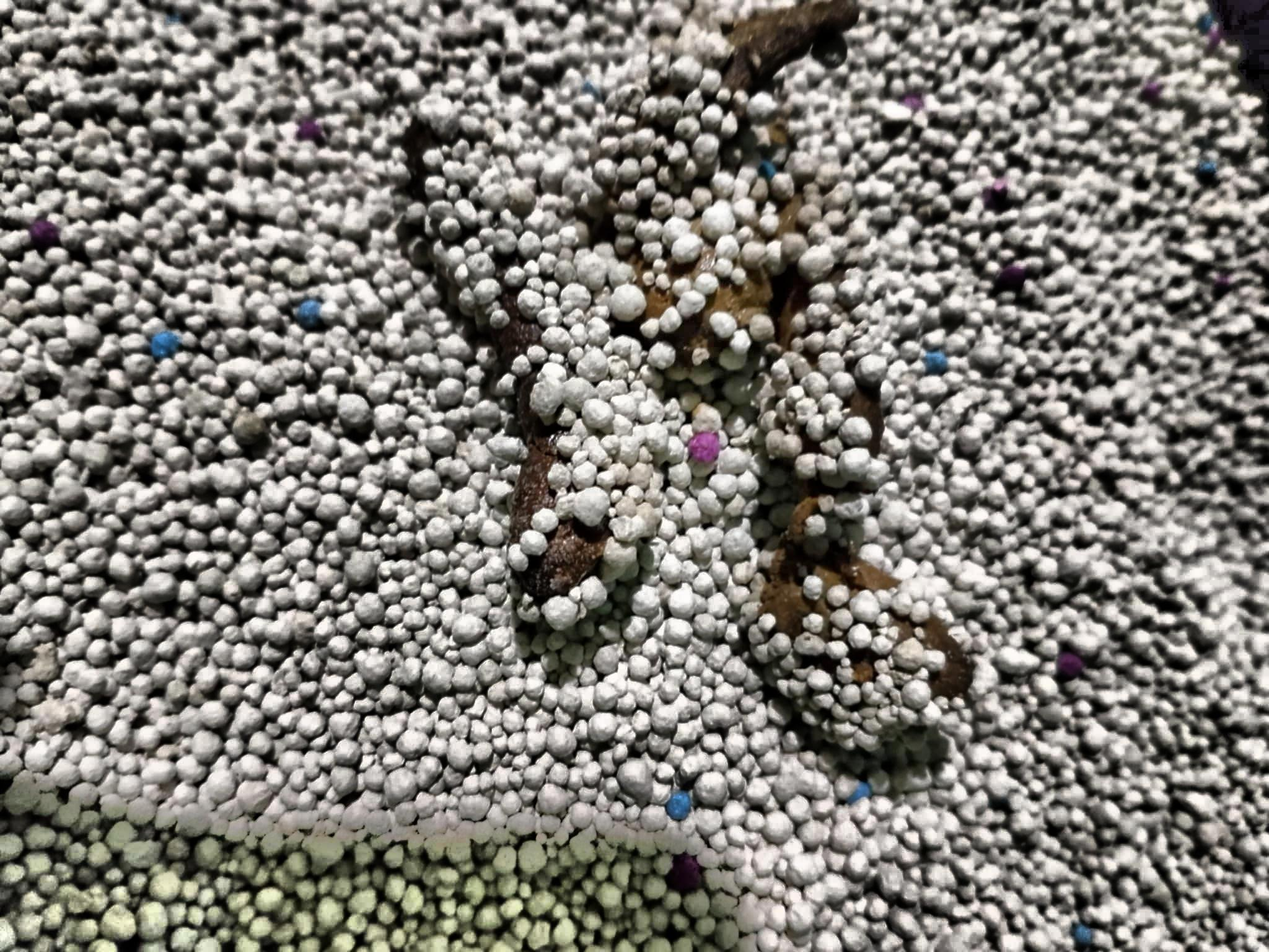poop: (405, 0, 972, 749), (399, 110, 677, 621), (747, 501, 974, 749)
